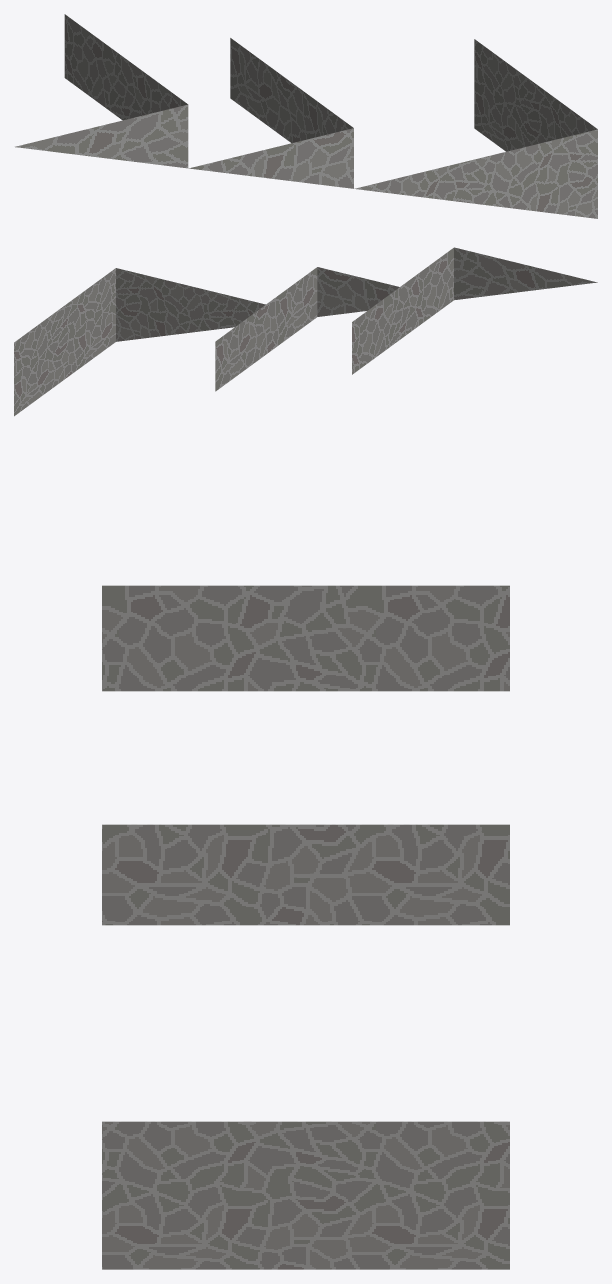
Rendered from kd_connection_town-ground_surface_1_4.glb.
3 views of the same model, one above another, from view 1: azimuth 30°, elevation 25°; view 2: azimuth 150°, elevation 25°; view 3: azimuth 270°, elevation 25° (orthographic). The views are drawn at different scales.
Parts seen in each view (by area): view 1: kd_connection_town-ground_surface_1_4; view 2: kd_connection_town-ground_surface_1_4; view 3: kd_connection_town-ground_surface_1_4.
Boxes of the visible parts, x1,y1,x2,y2 form: kd_connection_town-ground_surface_1_4: [15, 14, 597, 218]; kd_connection_town-ground_surface_1_4: [14, 247, 597, 416]; kd_connection_town-ground_surface_1_4: [102, 585, 509, 1269].
Size of the model in its own units: 19.1 by 6.7 by 7.
1 material, 1 textured.
